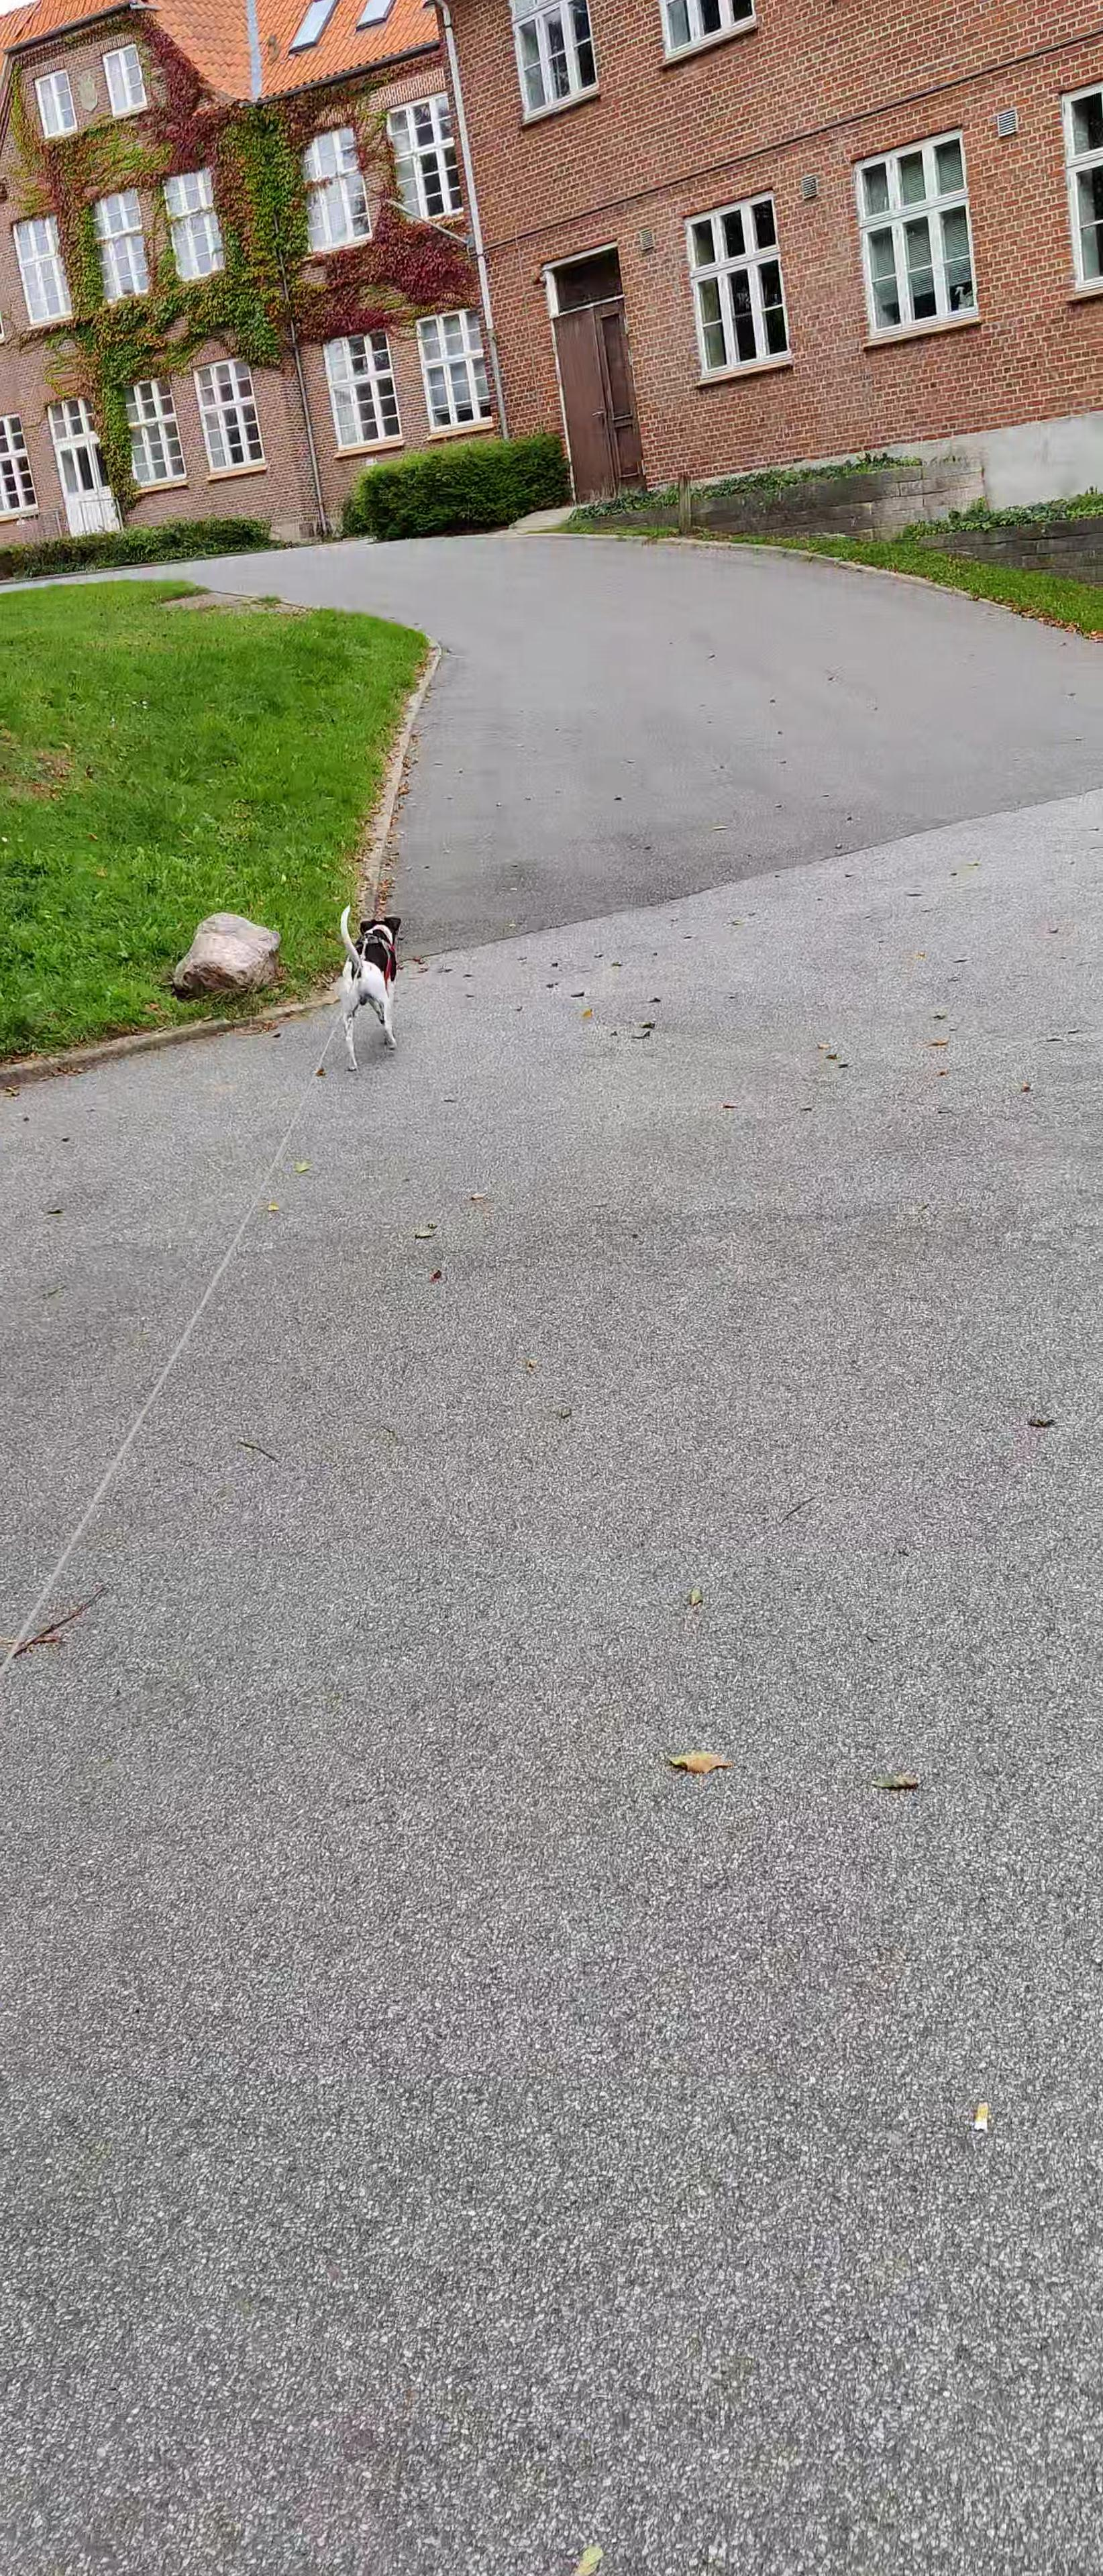Dog: (329, 899, 409, 1076)
